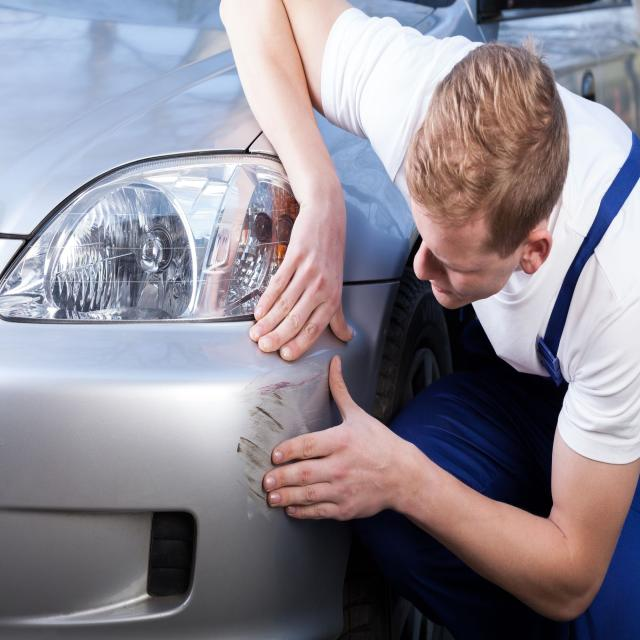scratch: (236, 345, 330, 523)
